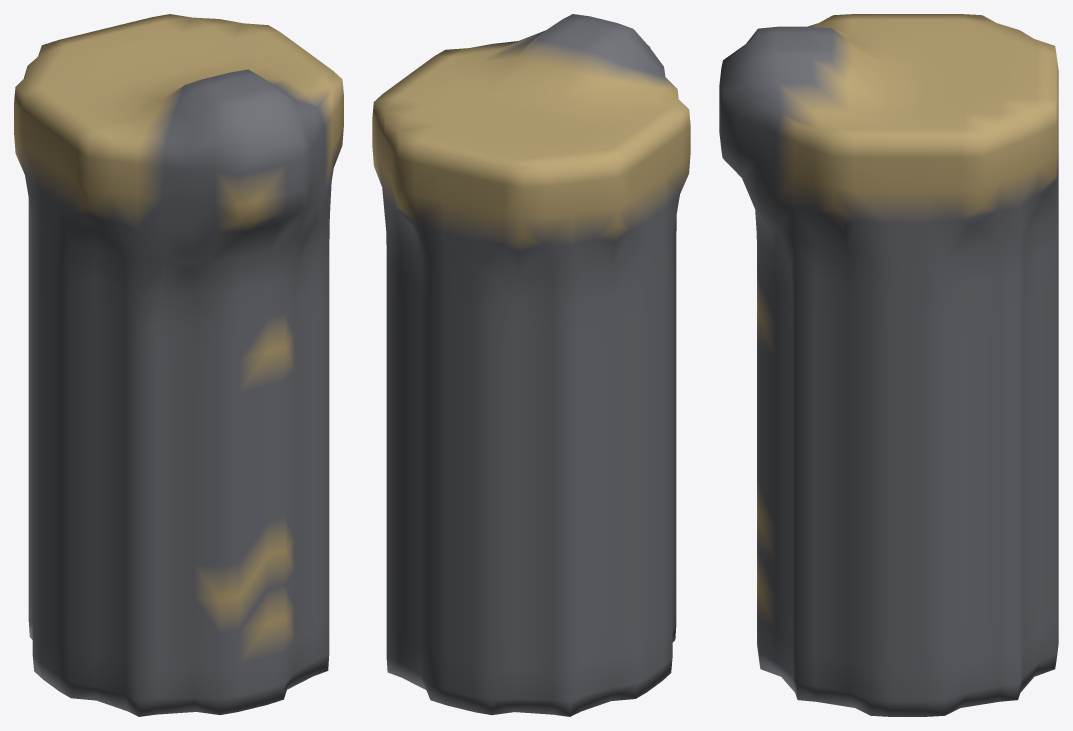
Rendered from plate_rare_boot_shin_L_lod1.glb.
The picture shows the model from 3 angles, left to right: view 1: azimuth 30°, elevation 25°; view 2: azimuth 150°, elevation 25°; view 3: azimuth 270°, elevation 25°; orthographic projection. The views are drawn at different scales.
Visible parts, largest first — view 1: plate_rare_boot_shin_L_lod1; view 2: plate_rare_boot_shin_L_lod1; view 3: plate_rare_boot_shin_L_lod1.
Boxes of the visible parts, bbox=[...] form: plate_rare_boot_shin_L_lod1: bbox=[14, 14, 343, 716]; plate_rare_boot_shin_L_lod1: bbox=[372, 14, 690, 716]; plate_rare_boot_shin_L_lod1: bbox=[719, 14, 1058, 716].
Size of the model in its own units: 0.192 by 0.4319 by 0.2159.
